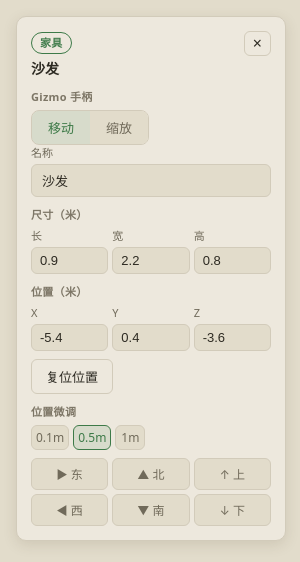
Scenario: PropertyPanel › 非法输入（小于最小值的数值）回显原值不提交
Replace the text in the number field labelled "长" with "0.05": (70, 260) [31, 247, 108, 274]
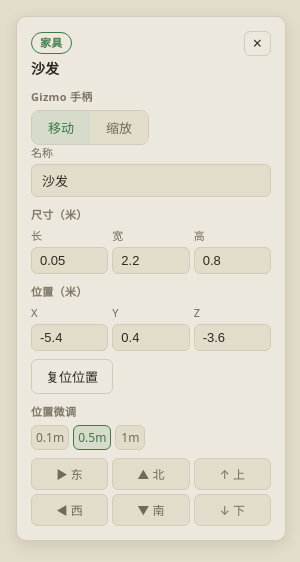
Press Enter in the number field labelled "长", box [31, 247, 108, 274]
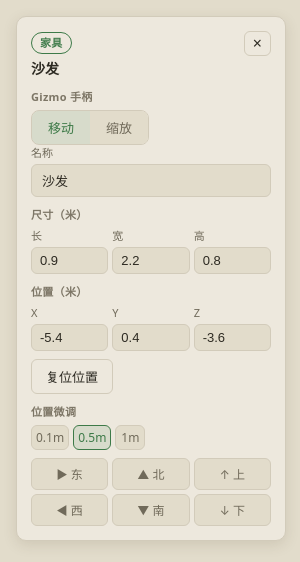
Now the number field labelled "长" holds "0.9", box [31, 247, 108, 274]
